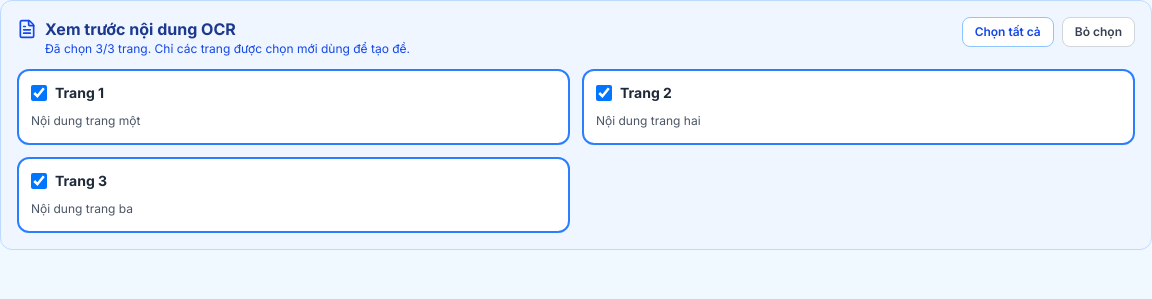
Test: OcrPreviewSection › requires at least one selected page
The image size is (1152, 299).
Click the checkbox labelled "Trang 1": (39, 93) 31,85 -> 47,101
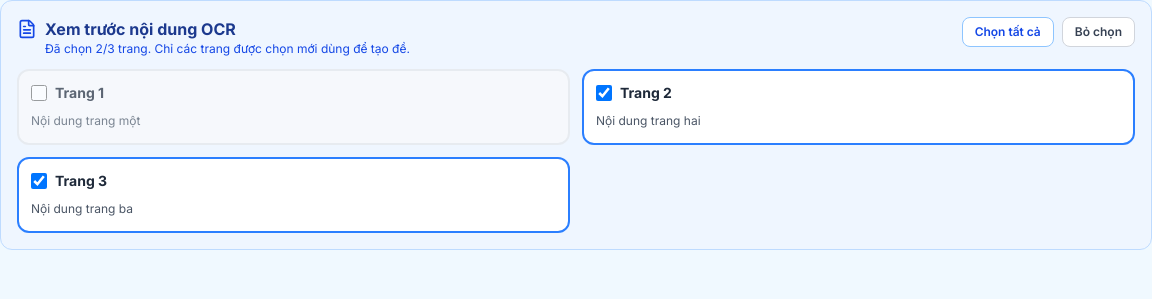
Click the checkbox labelled "Trang 2": (604, 93) 596,85 -> 612,101
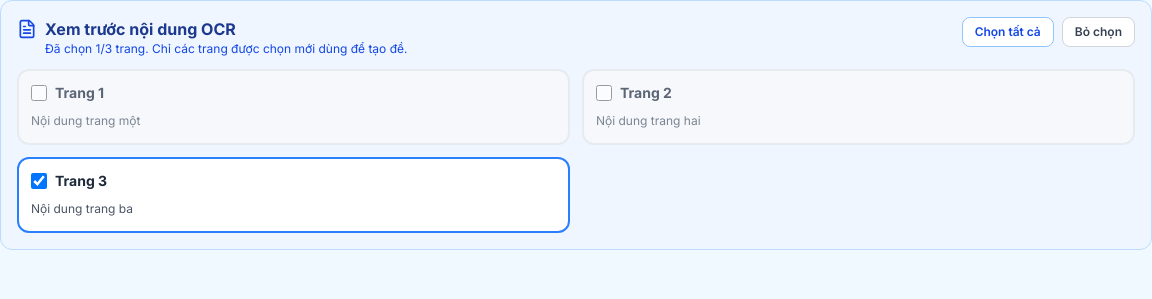
Click the checkbox labelled "Trang 3": (39, 181) 31,173 -> 47,189
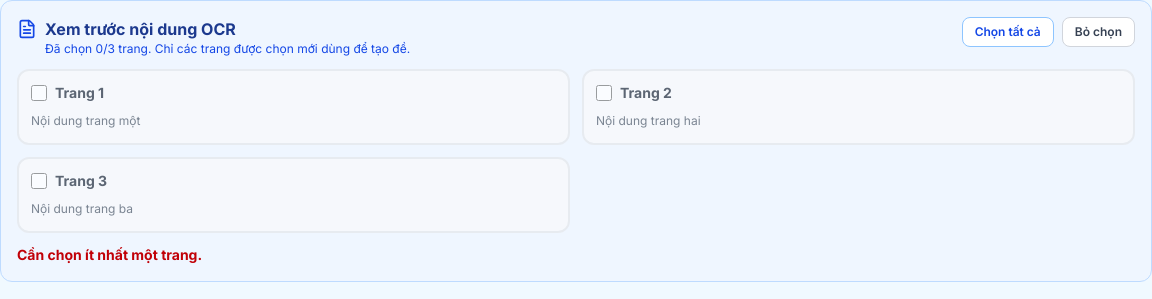
Check: the text "Cần chọn ít nhất một trang." is shown, box 17,246 -> 202,263
